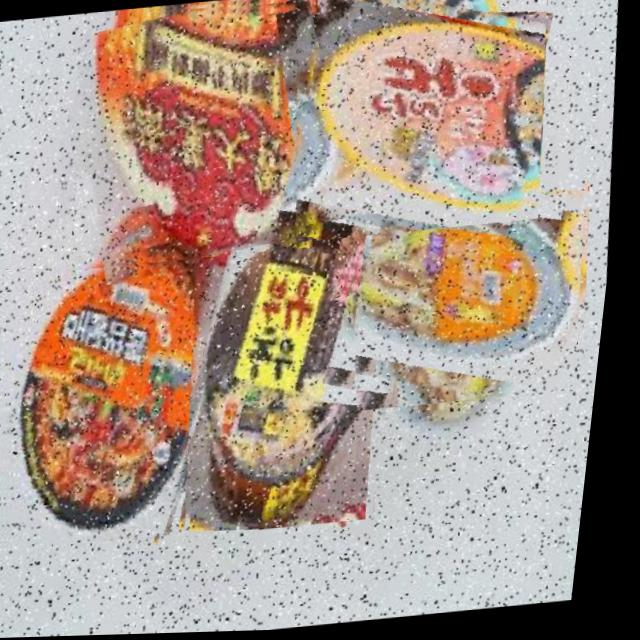Miscellaneous: (0, 165, 268, 552), (175, 198, 428, 538), (60, 0, 355, 271), (331, 157, 606, 416), (274, 0, 563, 245)
